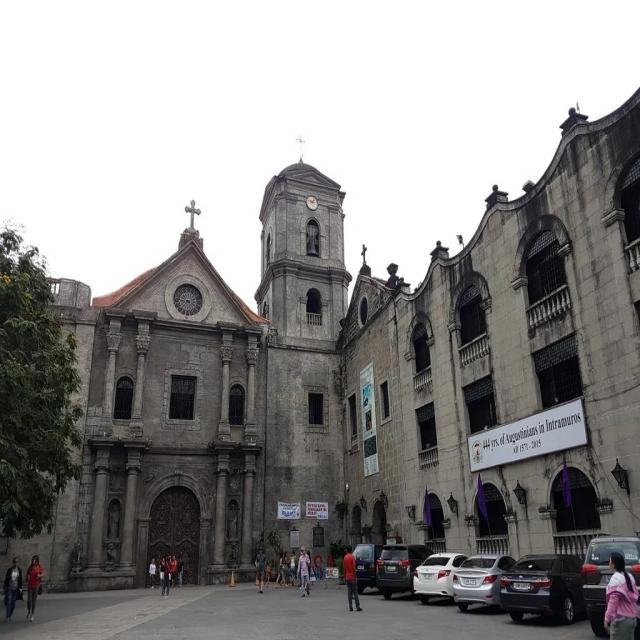San Agustin Church: (23, 139, 350, 584)
